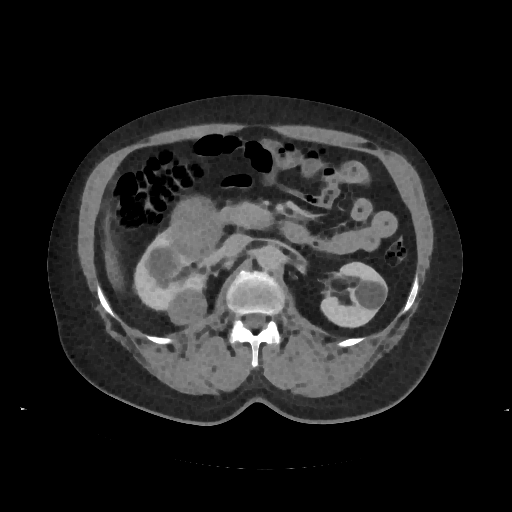Lesion: (351, 276, 388, 313)
